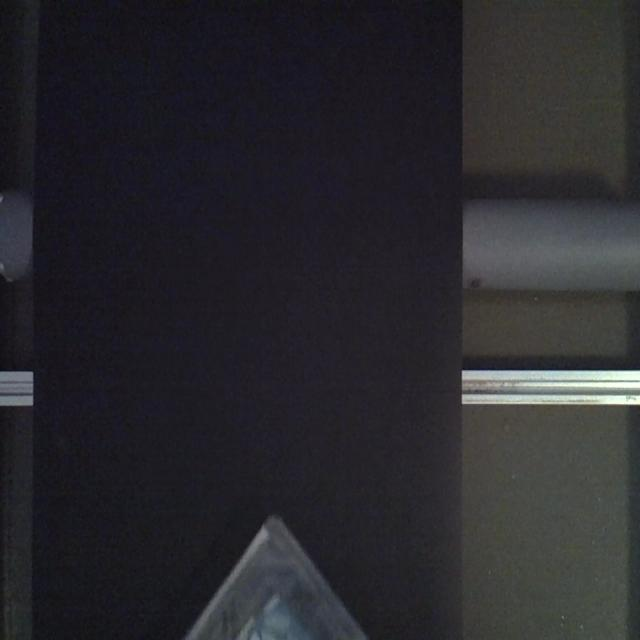mixed-plastics: (182, 511, 370, 638)
